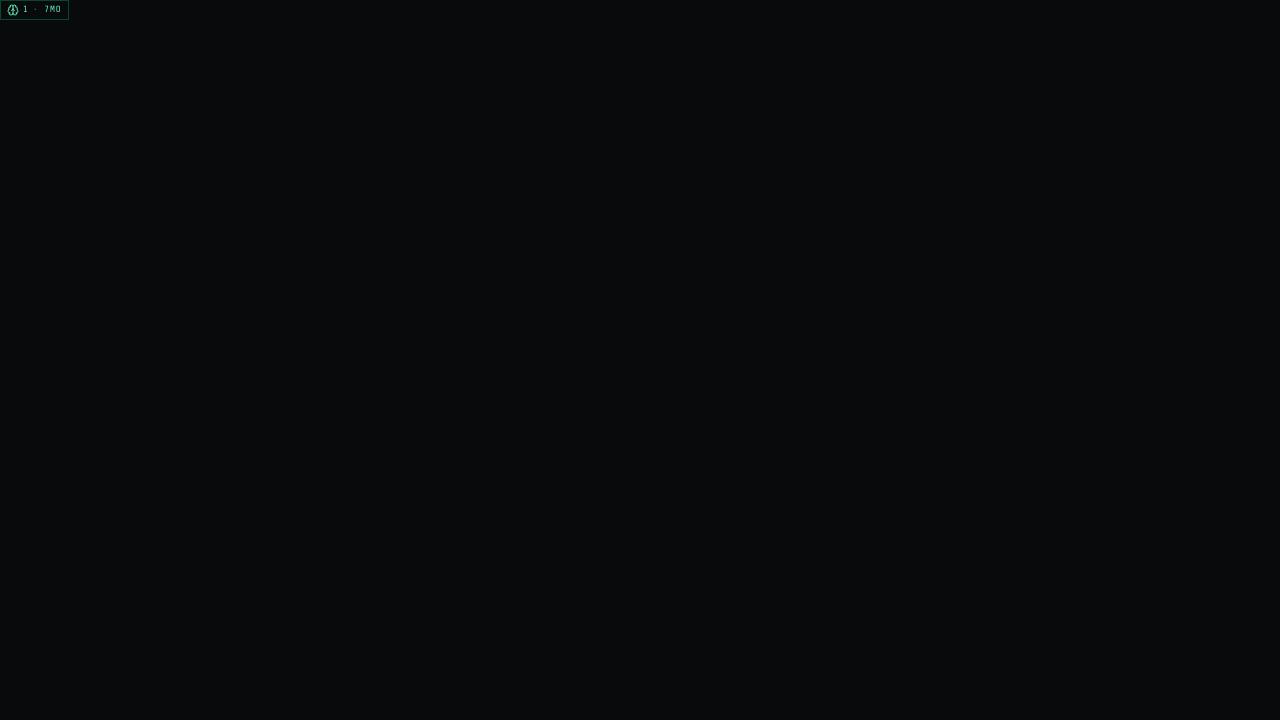
Scenario: MemoryHealth popover › portals the open panel to document.body outside overflow-hidden header chrome
Step 1. Click the button with aria-label "Scarlett memory health" → click(34, 10), box [0,0,69,20]
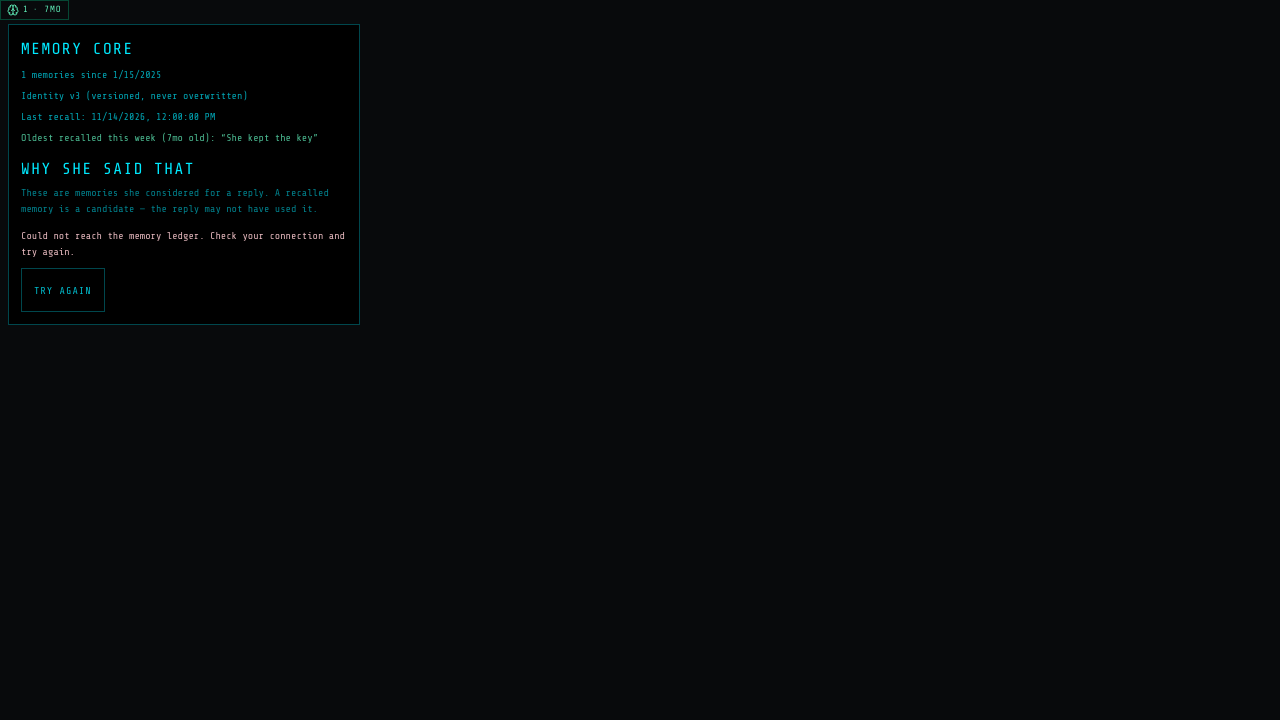
Check: the element with test id "memory-health-backdrop" is shown
Check: the element with test id "memory-health-panel" shows "Memory core", box [21,40,134,58]
Check: the element with test id "memory-health-panel" shows "1 memories", box [8,24,360,325]
